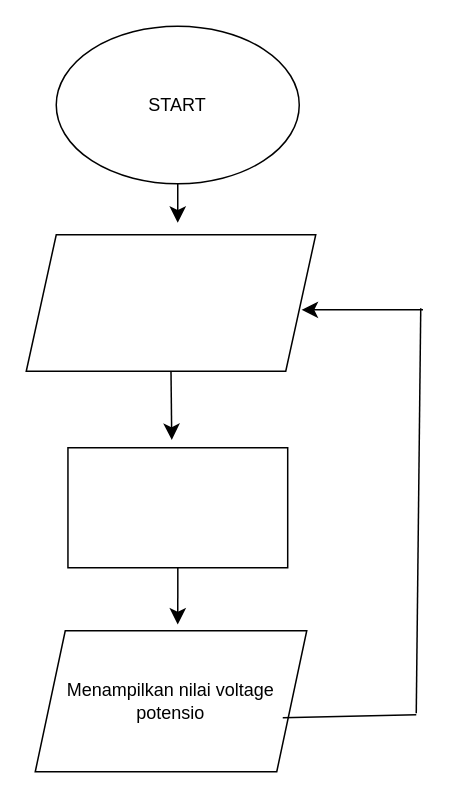
Image size: 450x798. Some labels were removed from this diagram. Each missing label, with the box of its shape:
Memgubah nilai analog menjadi nilai vot ( tegangan ) (0-5): (66, 446, 288, 568)
Pilih nilai terhadap analog Potensio (0-10240): (25, 233, 316, 371)
